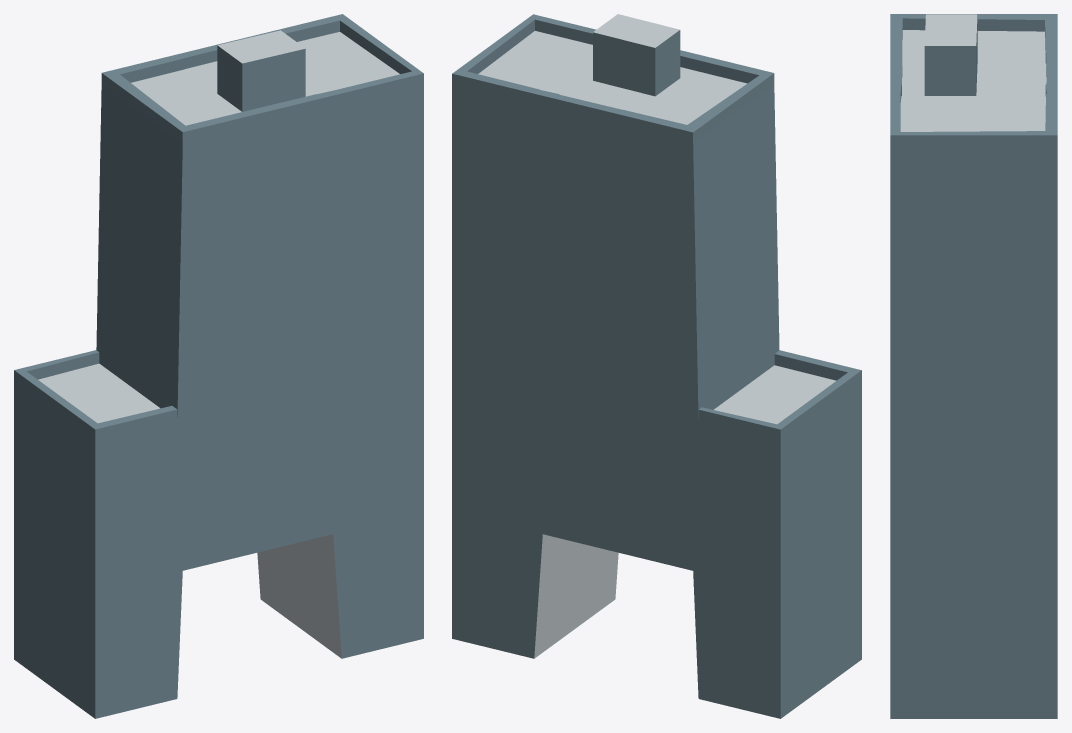
The picture shows the model from 3 angles, left to right: view 1: azimuth 30°, elevation 25°; view 2: azimuth 150°, elevation 25°; view 3: azimuth 270°, elevation 25°; orthographic projection. The views are drawn at different scales.
Visible parts, largest first — view 1: mesh_1451561933; view 2: mesh_1451561933; view 3: mesh_1451561933.
Boxes of the visible parts, x1,y1,x2,y2 form: mesh_1451561933: (14, 14, 423, 718); mesh_1451561933: (452, 14, 861, 718); mesh_1451561933: (890, 14, 1057, 718).
Bounding box in the file's own units: 92.25 × 162 × 39.48.
